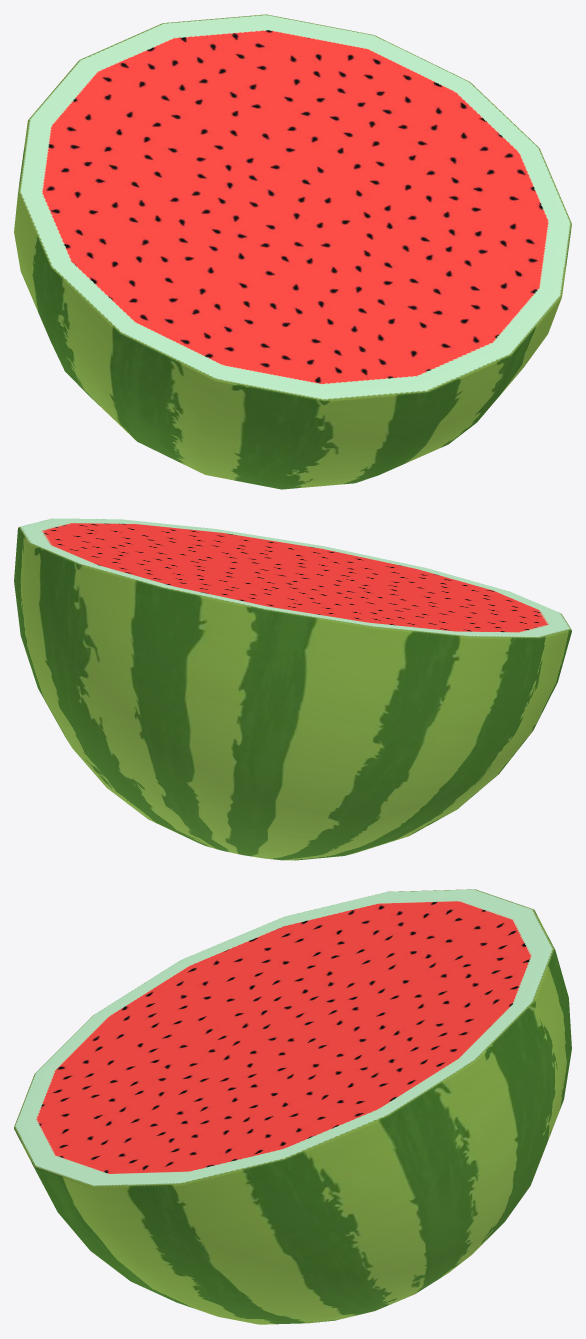
Rendered from watermelon__half.glb.
The picture shows the model from 3 angles, top to bottom: view 1: azimuth 30°, elevation 25°; view 2: azimuth 150°, elevation 25°; view 3: azimuth 270°, elevation 25°; orthographic projection.
Parts seen in each view (by area): view 1: Watermelon_Half; view 2: Watermelon_Half; view 3: Watermelon_Half.
Boxes of the visible parts, x1=… form: Watermelon_Half: x1=14, y1=14, x2=571, y2=489; Watermelon_Half: x1=14, y1=518, x2=571, y2=860; Watermelon_Half: x1=14, y1=889, x2=571, y2=1324.
Size of the model in its own units: 0.2444 by 0.1637 by 0.2367.
1 material, 1 textured.
